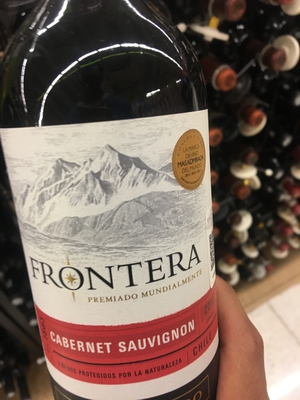frontera cabernet sauvignon: (6, 10, 225, 400)
